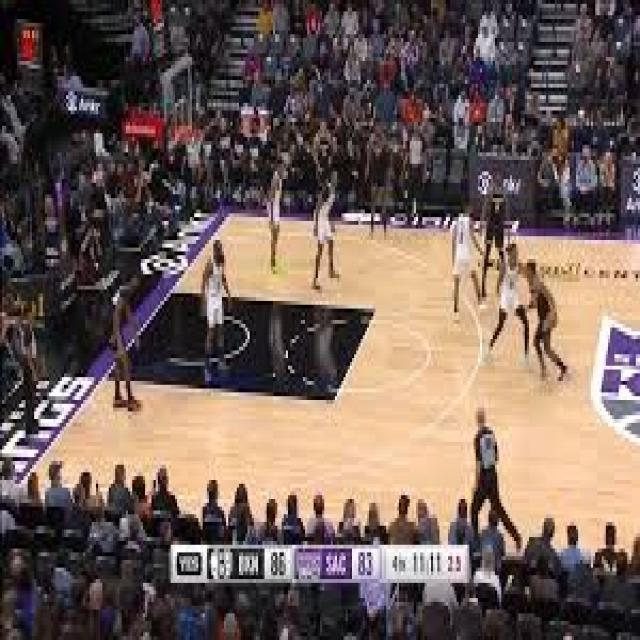rim: (544, 308, 557, 328)
